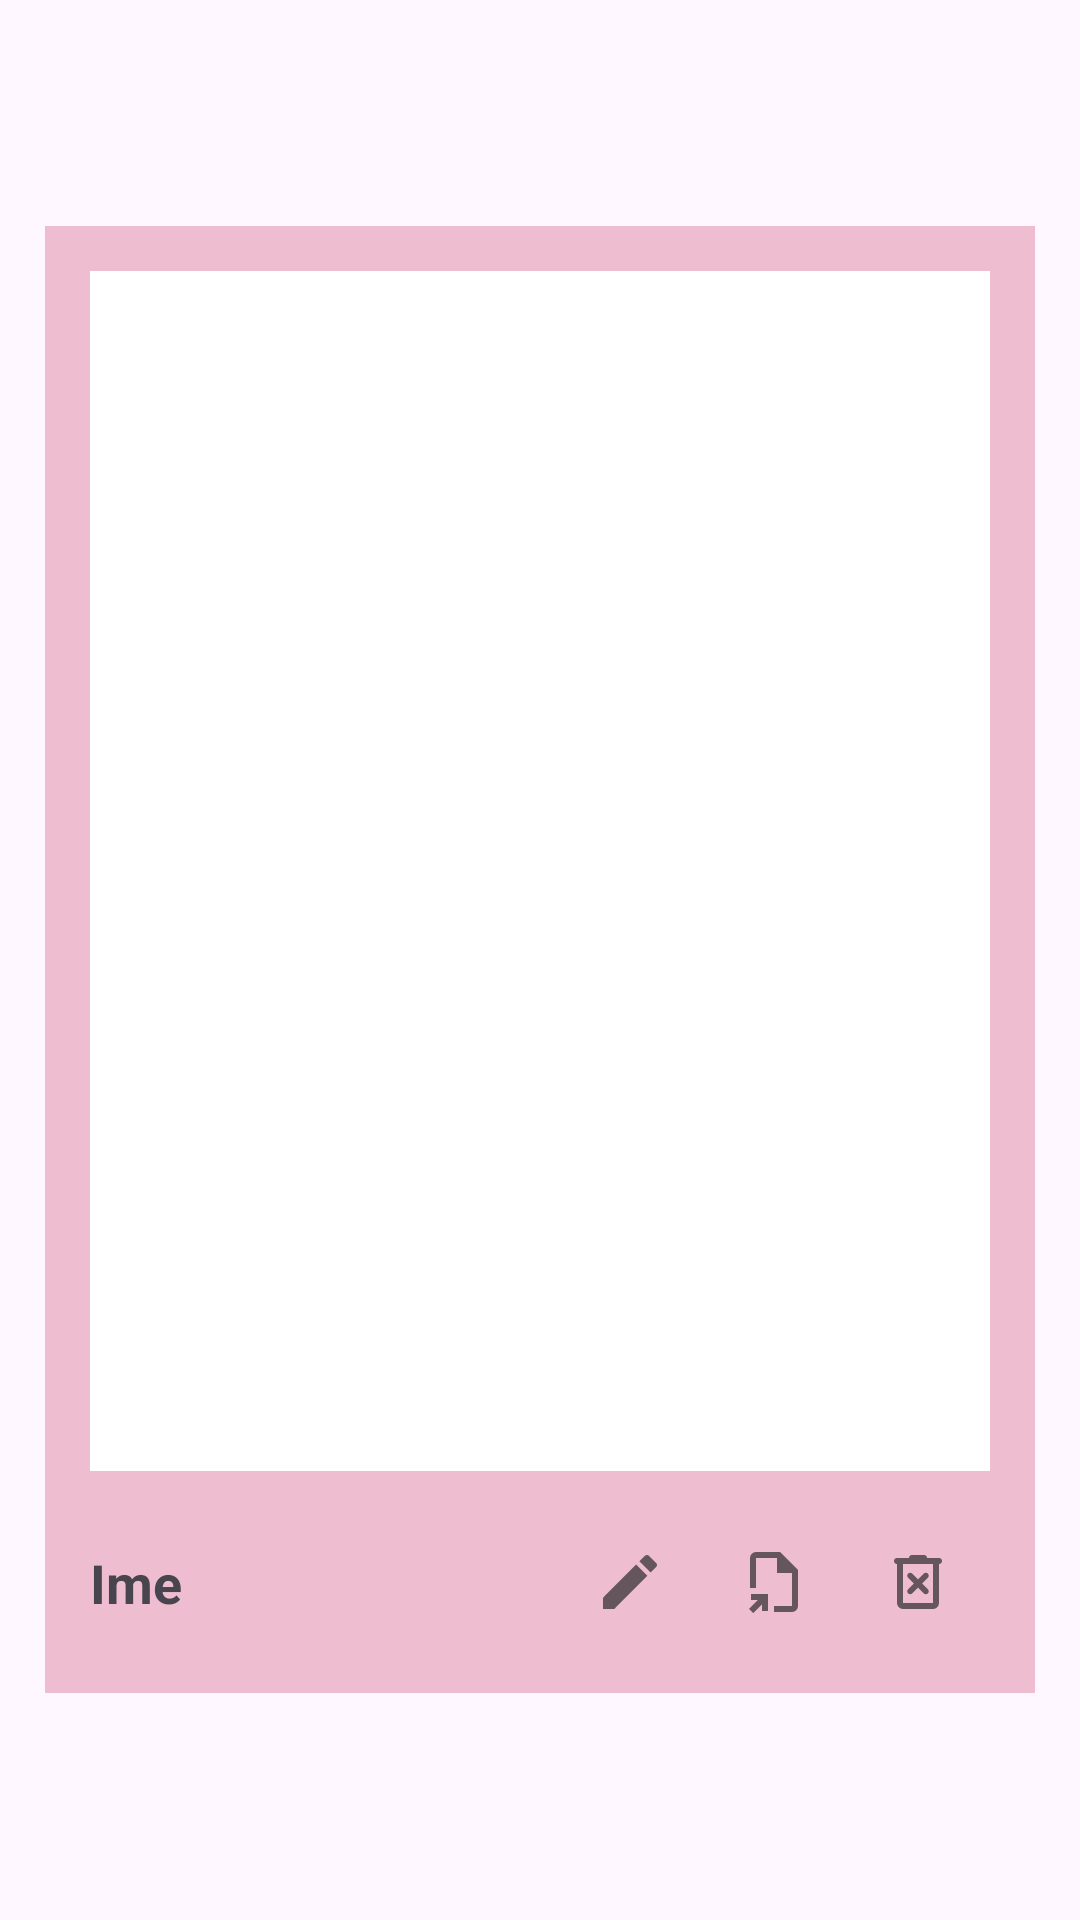

Icons on this 1080 x 1920 Android screen, each with the point to tap as [x,y]:
delete: [918,1582]
edit: [630,1582]
export: [773,1582]
